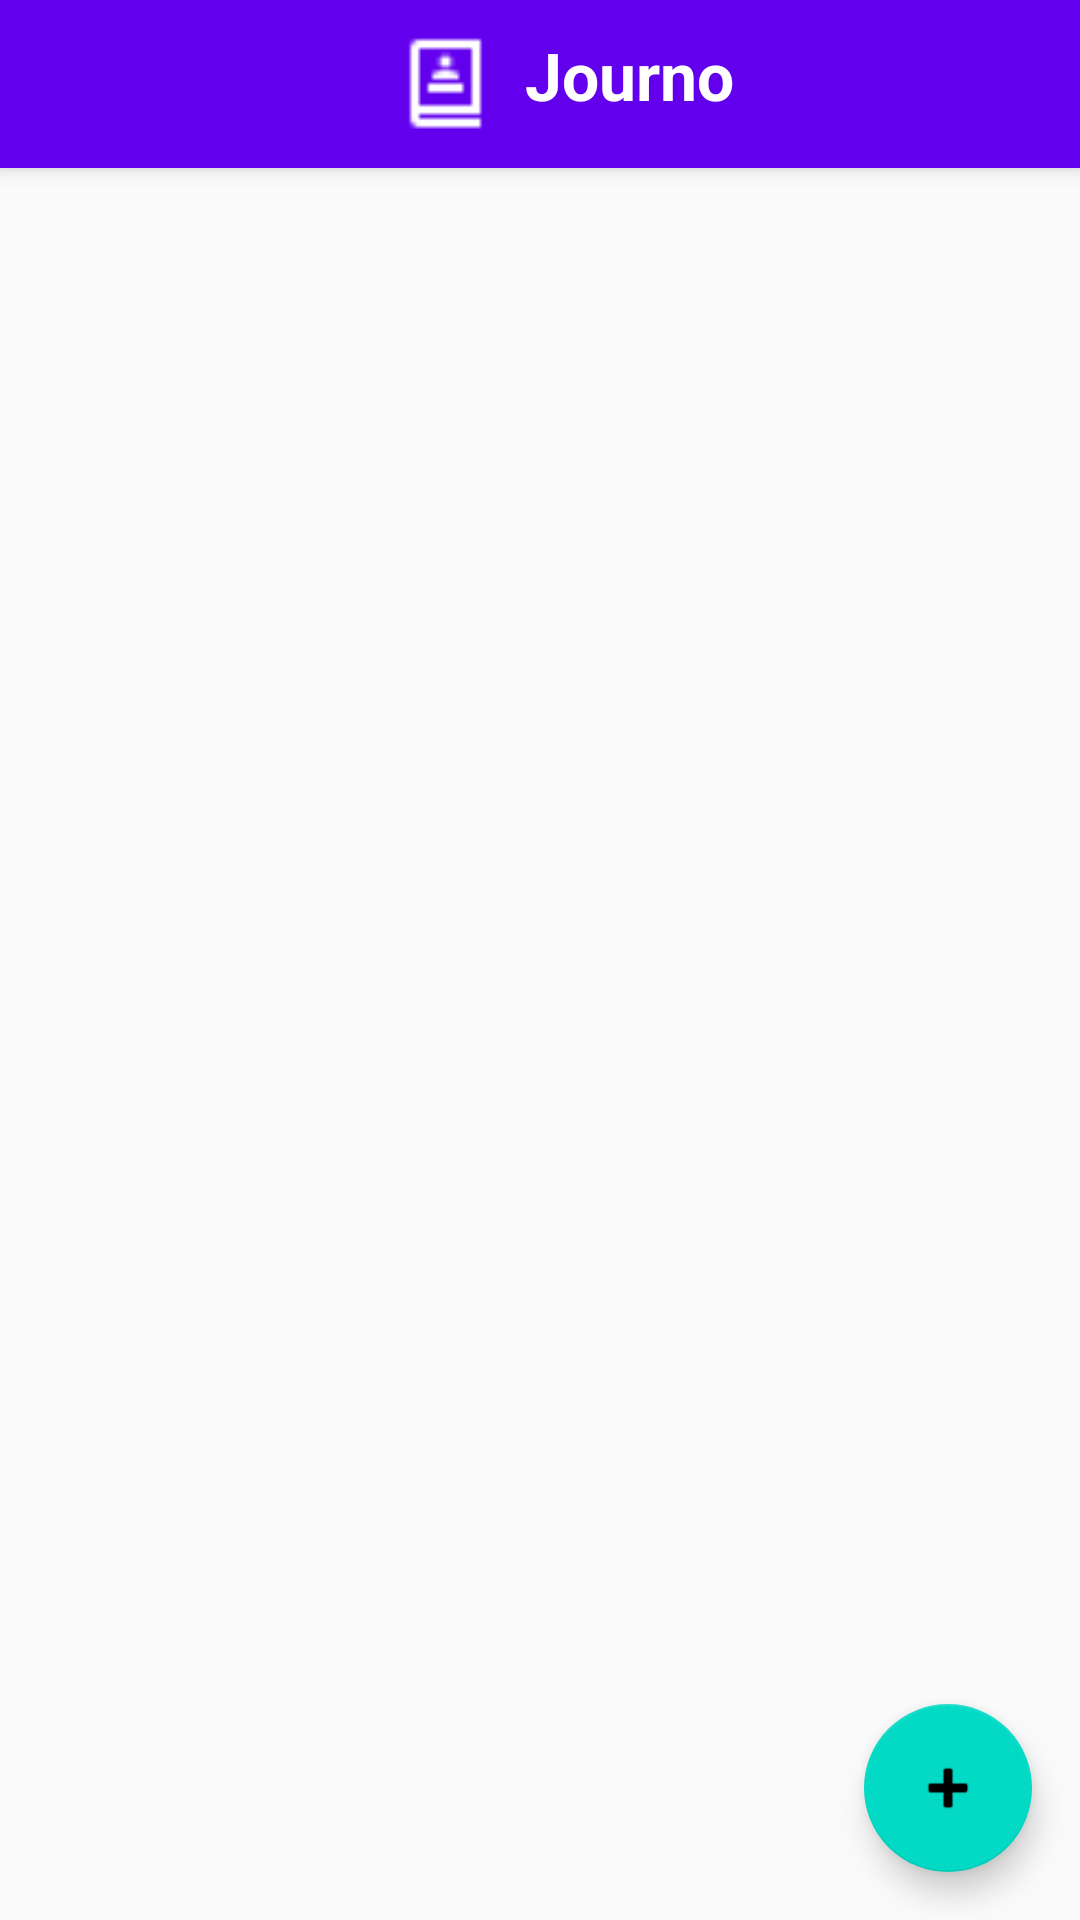

Icons on this 1080*1920 Android screen, each with the point to tap as (x,y):
add: (948,1788)
journal: (445,83)
